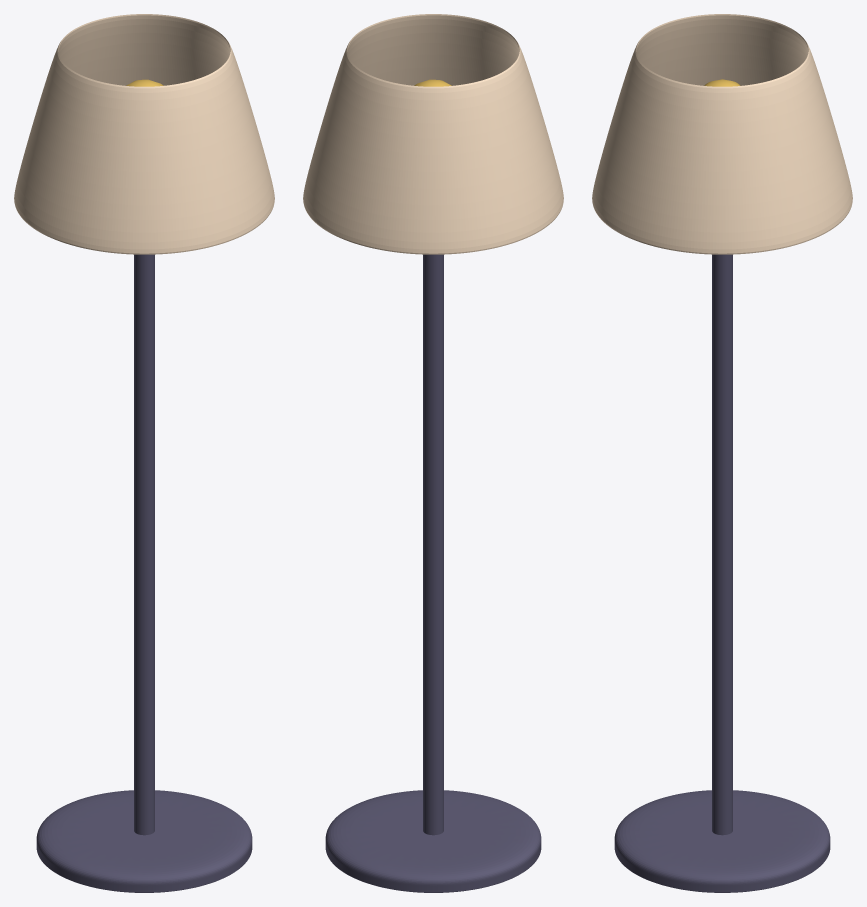
The model's file is Lamp.fbx.
3 views of the same model, side by side, from view 1: azimuth 30°, elevation 25°; view 2: azimuth 150°, elevation 25°; view 3: azimuth 270°, elevation 25° (orthographic).
Visible parts, largest first — view 1: Cylinder.001; view 2: Cylinder.001; view 3: Cylinder.001.
Part boxes in pixels (left/top/right/bottom): Cylinder.001: left=14, top=14, right=274, bottom=892; Cylinder.001: left=303, top=14, right=563, bottom=892; Cylinder.001: left=592, top=14, right=852, bottom=892.
Size of the model in its own units: 240 by 811 by 240.
